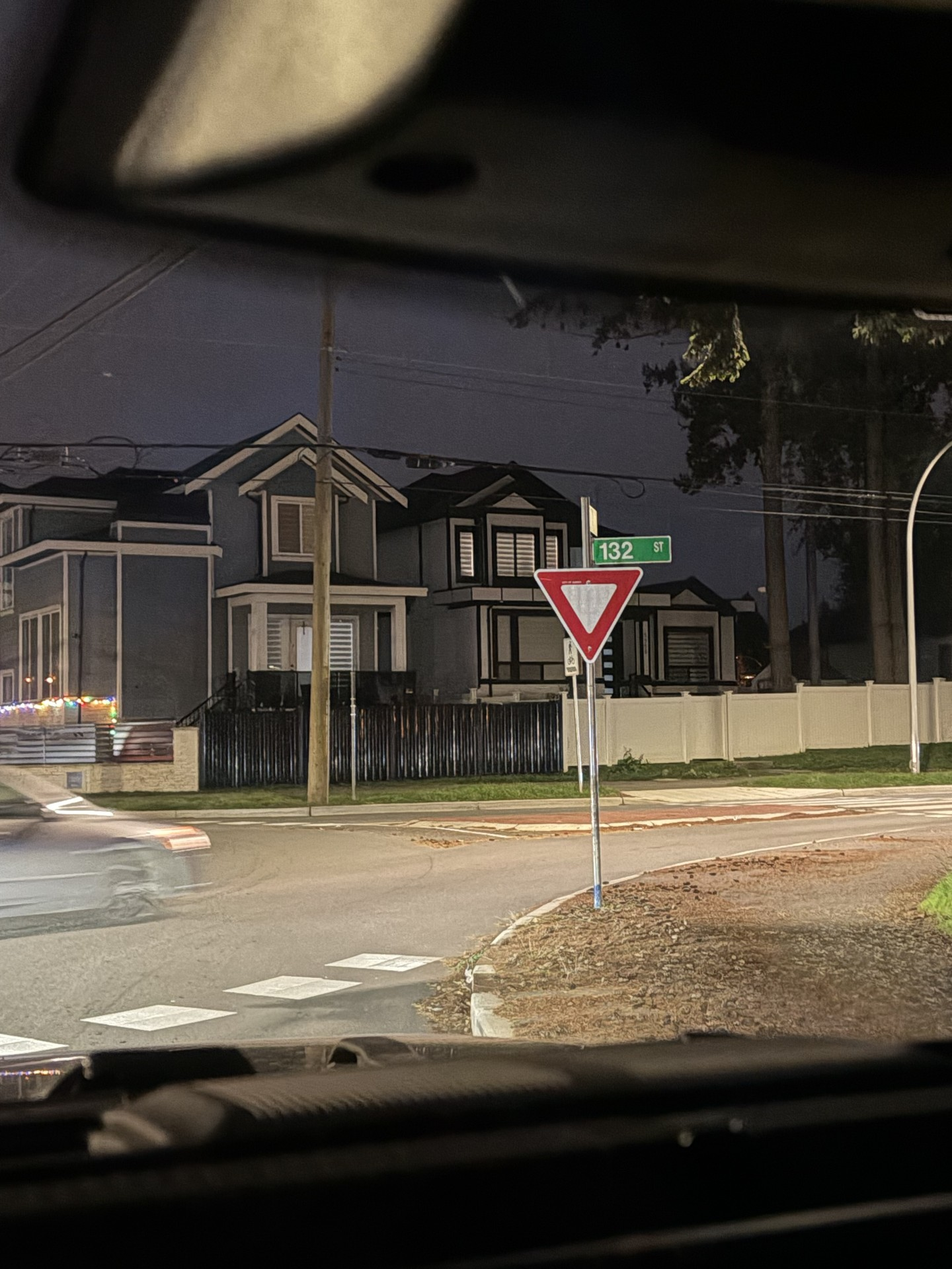yield: (519, 530, 666, 685)
